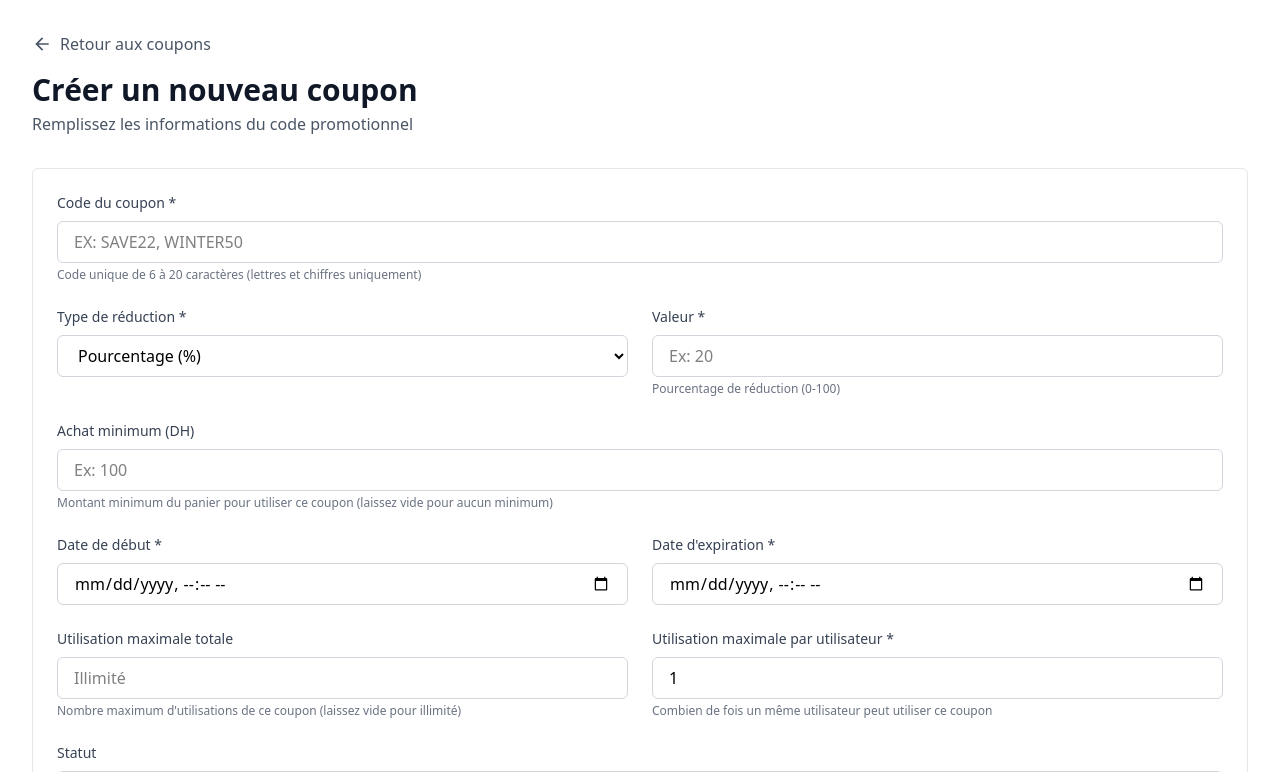
AddCoupon Form › Affiche une erreur si le pourcentage dépasse 100
Type "120" into the number field labelled "Valeur *".
click(938, 356); type("120")  # box [652,335,1223,377]
(page scrolled)
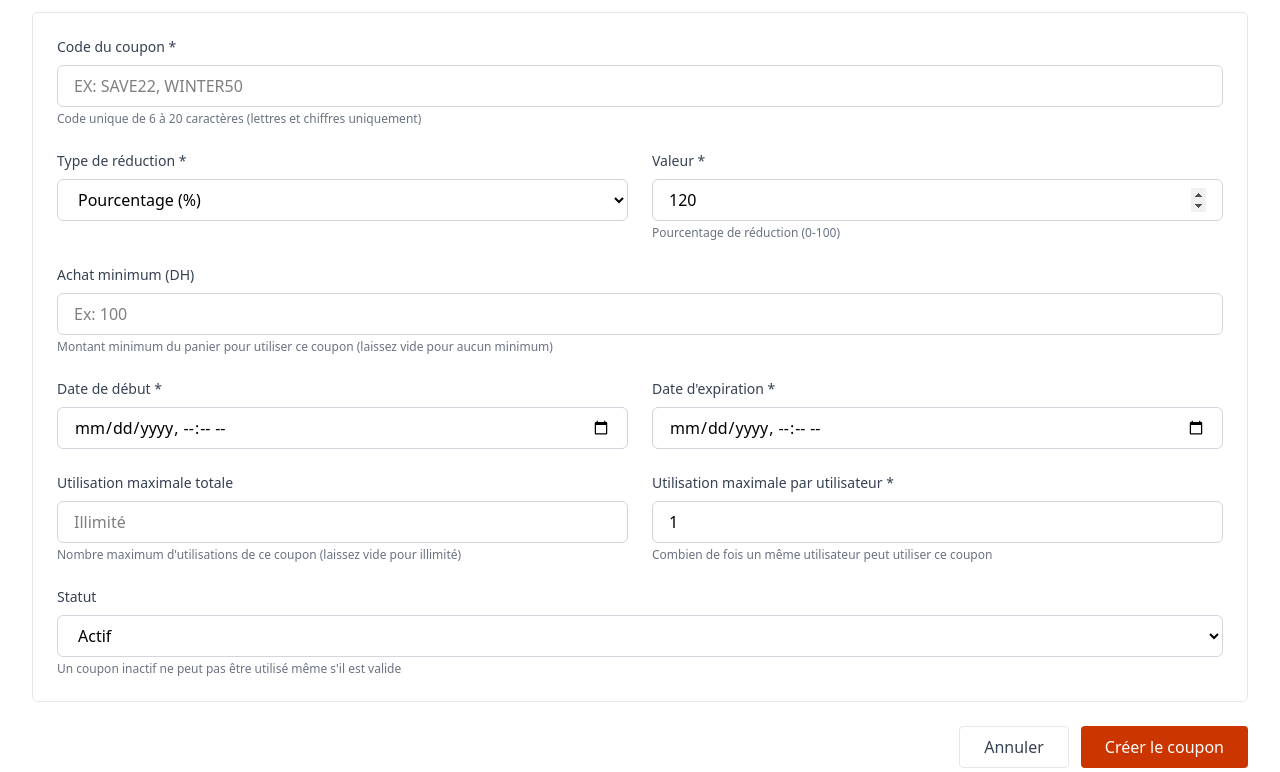
Click the button "Créer le coupon".
click(1164, 747)  # box [1081,726,1248,768]
(page scrolled)
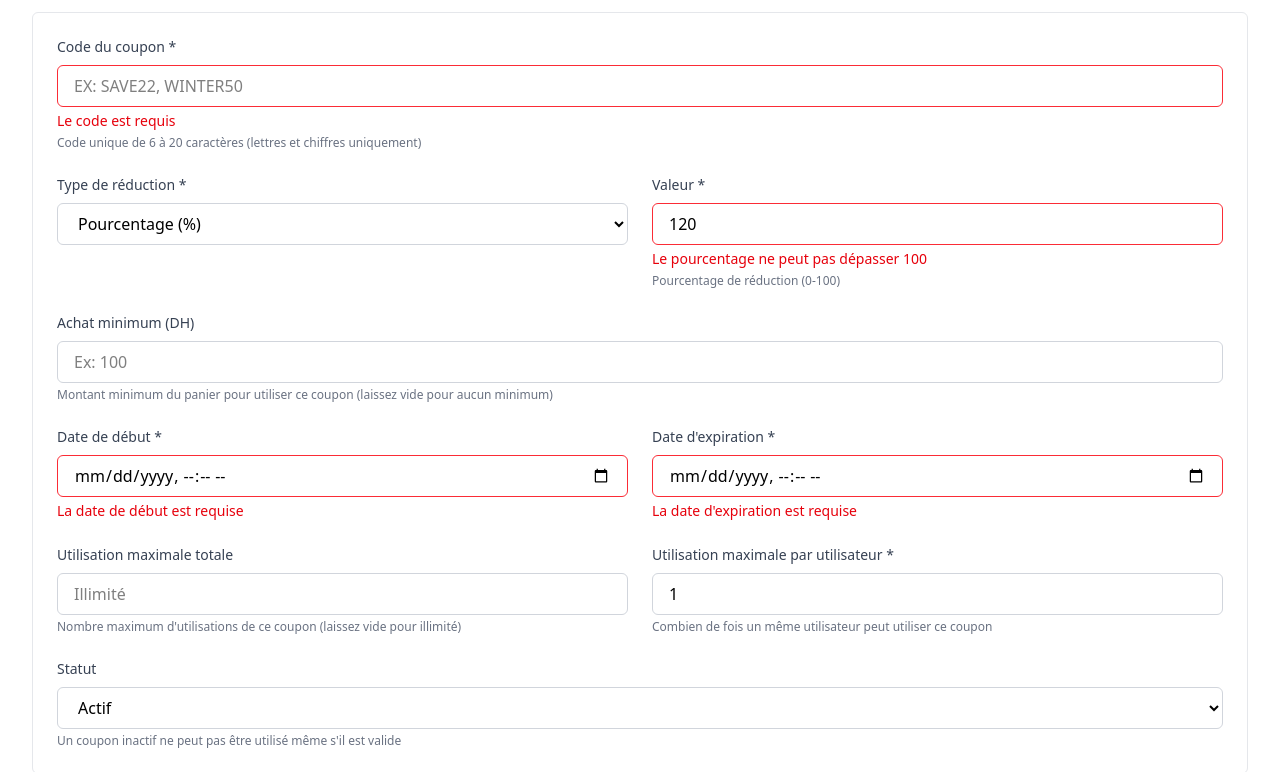
Result: the text "Le pourcentage ne peut pas dépasser 100" is shown at [652,249,927,268]
